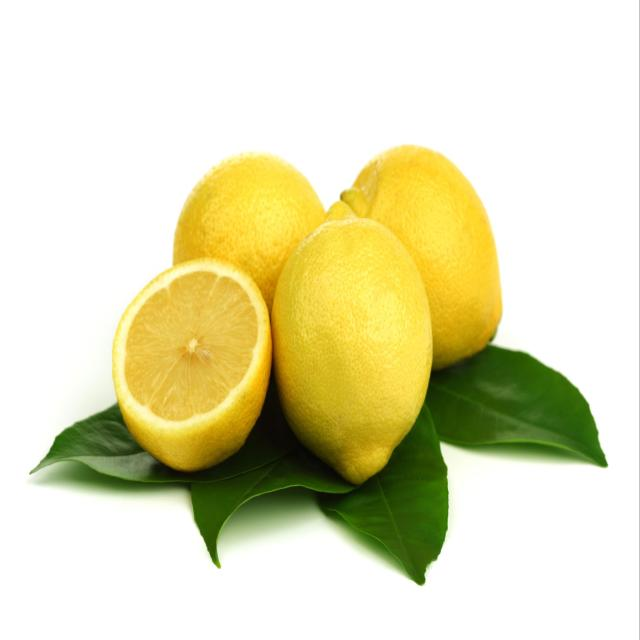lemon: (264, 193, 436, 486), (109, 252, 275, 480)
